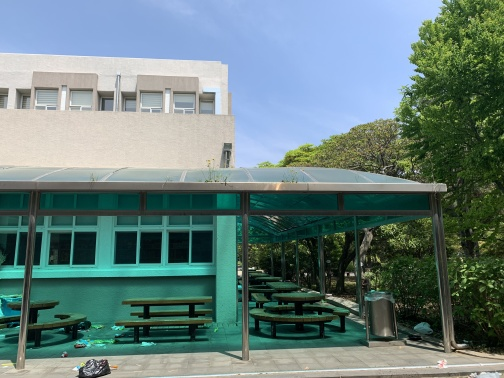Ara Hall: (1, 161, 465, 369)
